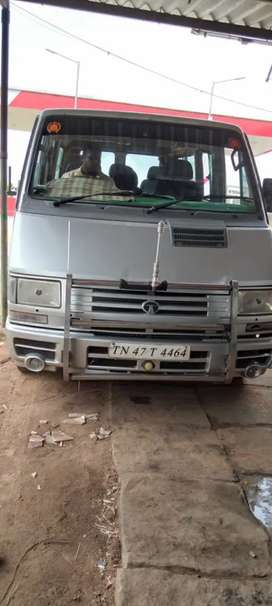TN47T4464: (108, 341, 190, 360)
